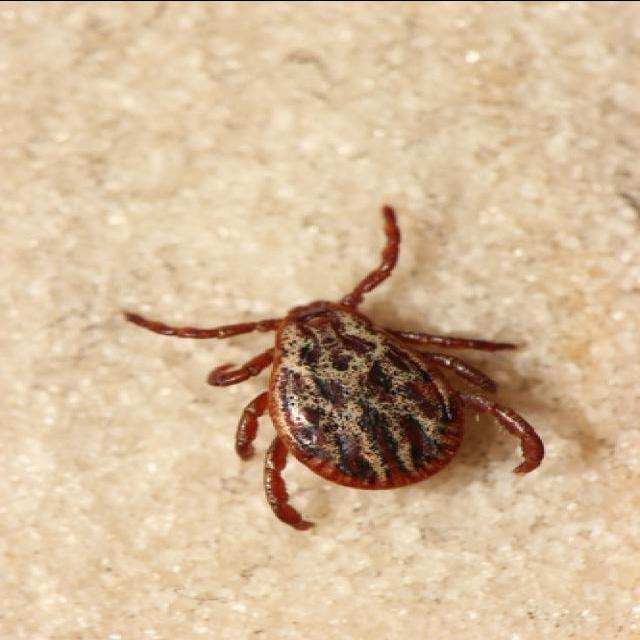Dermacentor Reticulatus-M: (125, 206, 545, 530)
